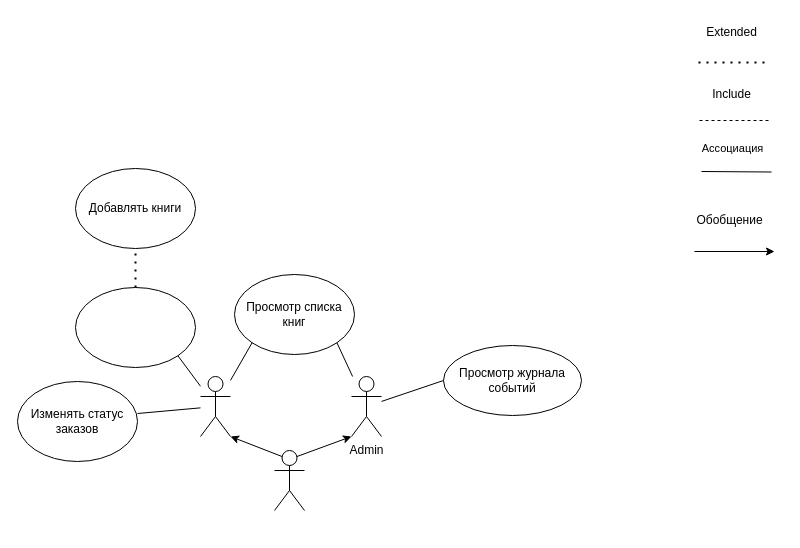
The diagram is 800 pixels wide and 548 high, and some of its shapes have lost their labels. The shapes that lost their labels are listed below. From the top down, each one's centre as x and y in pixels, then its label:
At (x=135, y=327): "Редактировать занесённые книги".
At (x=215, y=406): "Employeer".
At (x=289, y=480): "root".
